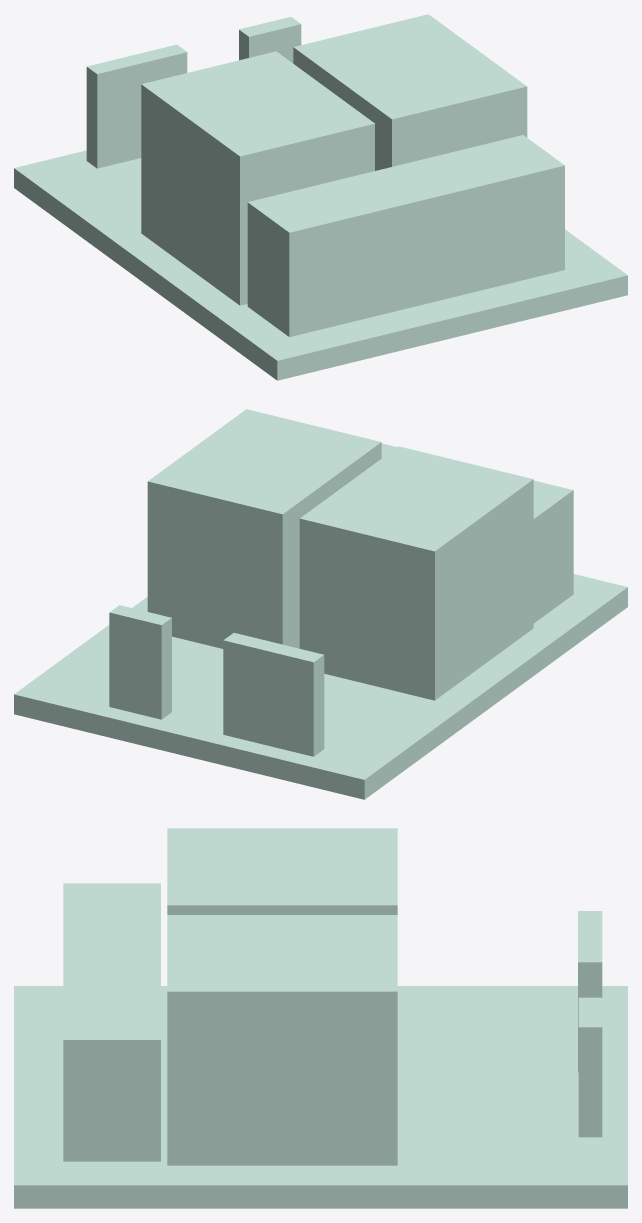
The picture shows the model from 3 angles, top to bottom: view 1: azimuth 30°, elevation 25°; view 2: azimuth 150°, elevation 25°; view 3: azimuth 270°, elevation 25°; orthographic projection. The views are drawn at different scales.
Parts seen in each view (by area): view 1: Renderer Node; view 2: Renderer Node; view 3: Renderer Node.
Part boxes in pixels (x1,y1,x2,y2): Renderer Node: (14, 14, 627, 380); Renderer Node: (14, 409, 627, 799); Renderer Node: (14, 828, 627, 1208).
Bounding box in the file's own units: 0.5763 × 0.2656 × 0.75.
